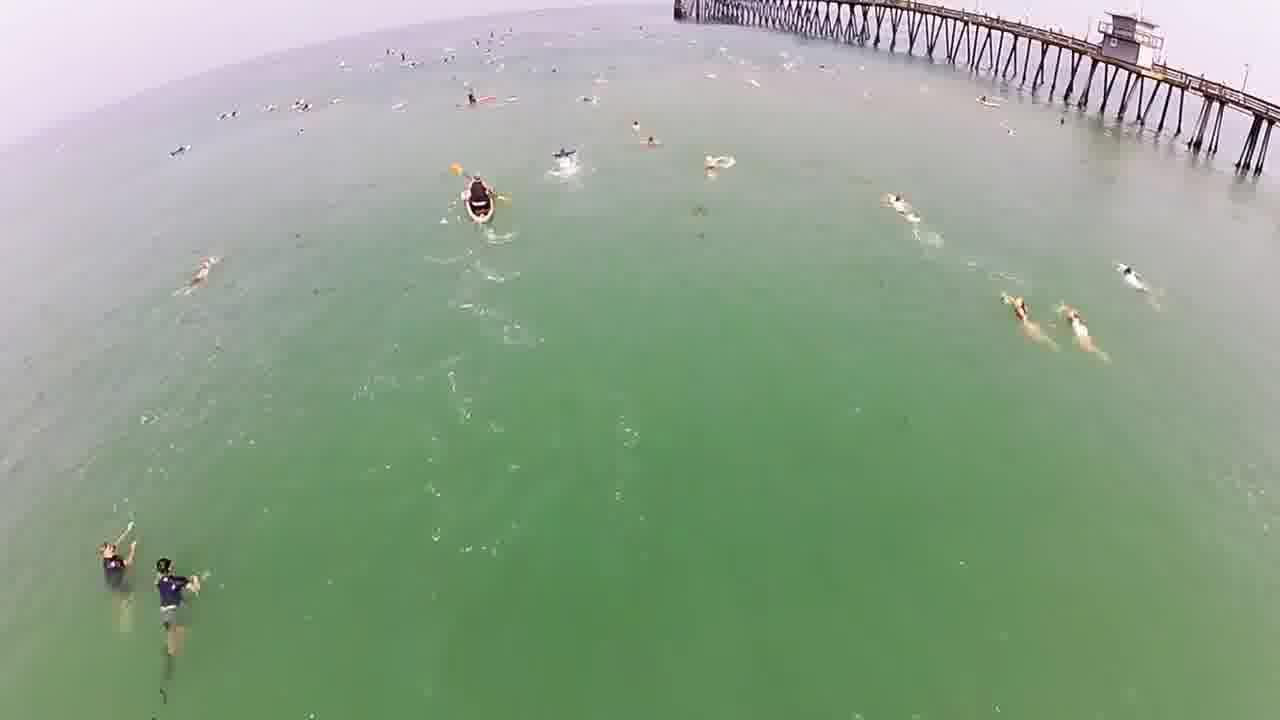human: (146, 541, 199, 632), (1057, 293, 1102, 357), (874, 173, 922, 225), (88, 531, 129, 590), (177, 253, 225, 296), (1001, 273, 1028, 340), (1113, 248, 1153, 289), (539, 131, 580, 168), (698, 150, 730, 183)
